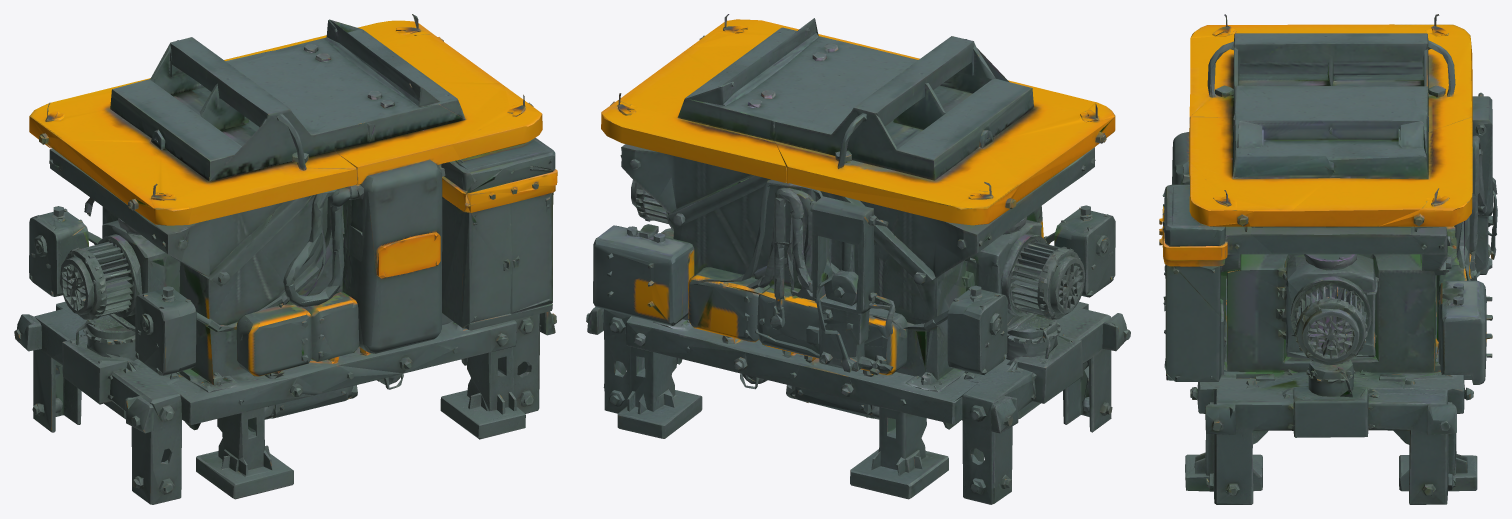
The model's file is iron_miner.glb.
The picture shows the model from 3 angles, left to right: view 1: azimuth 30°, elevation 25°; view 2: azimuth 150°, elevation 25°; view 3: azimuth 270°, elevation 25°; orthographic projection. The views are drawn at different scales.
Size of the model in its own units: 1.9 by 1.51 by 1.33.
Materials: 1 (1 with a texture image).
